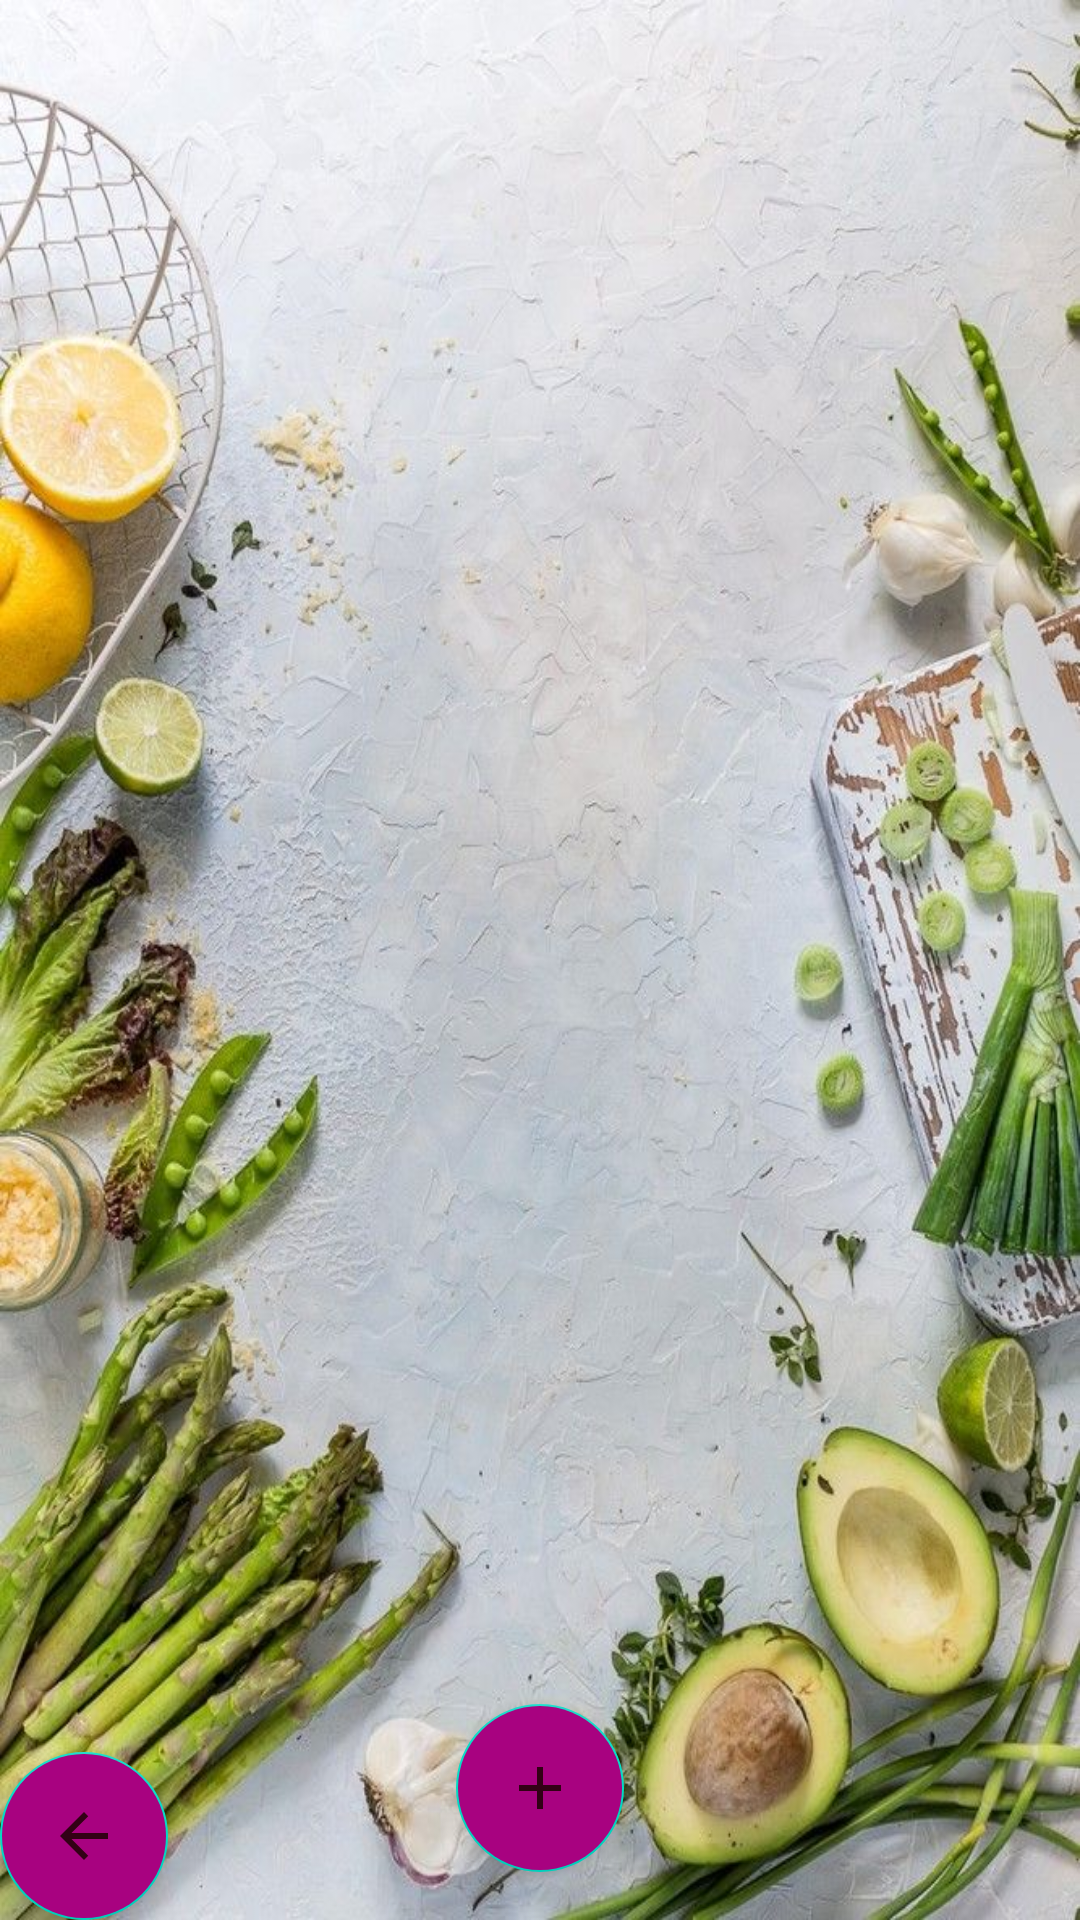

Screen size 1080 x 1920. Icon name, then its center in pixels as (x=x, y=y):
add: (x=540, y=1788)
backtohome: (x=84, y=1836)
